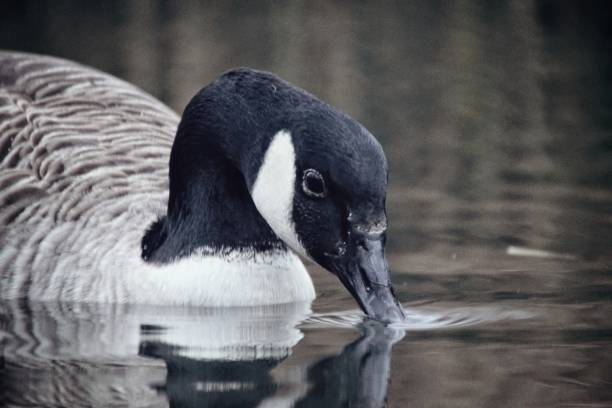goose: (1, 43, 411, 330)
